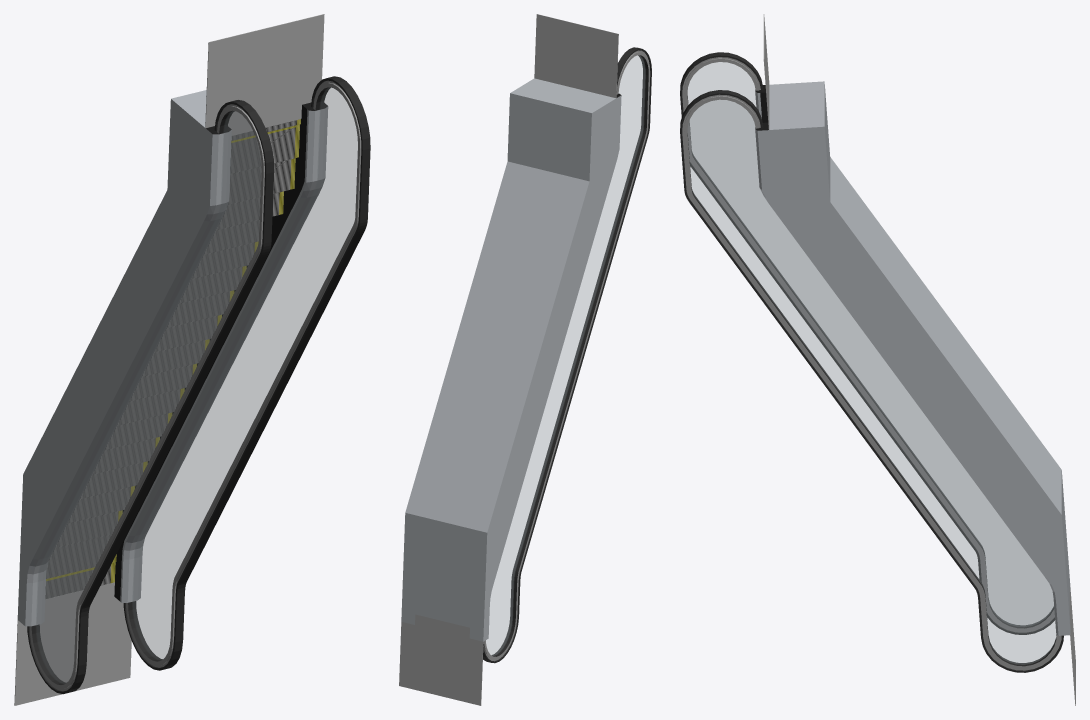
File: Thang cuốn đơn (nổi).glb
3 views of the same model, side by side, from view 1: azimuth 30°, elevation 25°; view 2: azimuth 150°, elevation 25°; view 3: azimuth 270°, elevation 25° (orthographic). The views are drawn at different scales.
Visible parts, largest first — view 1: Object_3, Object_7, Object_6, Object_8, Object_5, Object_4, Object_2; view 2: Object_7, Object_3, Object_8, Object_5, Object_4; view 3: Object_7, Object_3, Object_4, Object_5, Object_8.
Part boxes in pixels (box(x1,y1,x2,y2)): Object_3: box(36, 87, 357, 683); Object_7: box(17, 90, 328, 626); Object_6: box(45, 119, 300, 598); Object_8: box(14, 14, 324, 705); Object_5: box(27, 76, 370, 694); Object_4: box(29, 80, 361, 691); Object_2: box(114, 102, 327, 601); Object_7: box(401, 78, 621, 641); Object_3: box(486, 55, 645, 655); Object_8: box(399, 14, 618, 705); Object_5: box(483, 47, 651, 663); Object_4: box(483, 50, 650, 661); Object_7: box(755, 81, 1070, 635); Object_3: box(688, 62, 1055, 664); Object_4: box(682, 57, 1061, 670); Object_5: box(680, 52, 1063, 672); Object_8: box(763, 14, 1075, 705).
Bounding box in the file's own units: 129 × 859 × 477.
7 materials, 1 textured.
